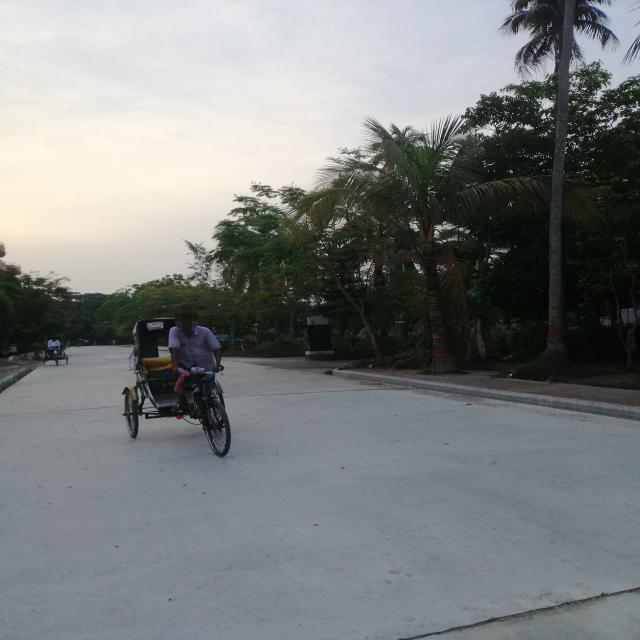Auto-Rickshaw: (85, 299, 272, 471)
